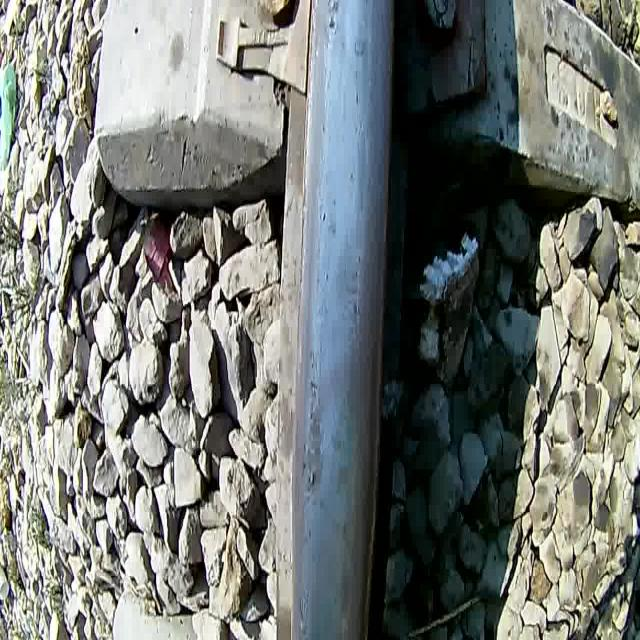Squats: (294, 372, 327, 496)
